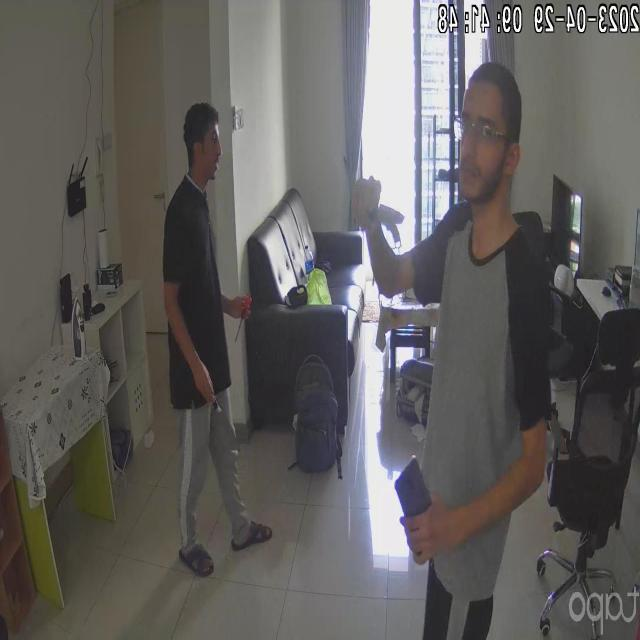Knife: (345, 201, 411, 244), (232, 289, 256, 346)
